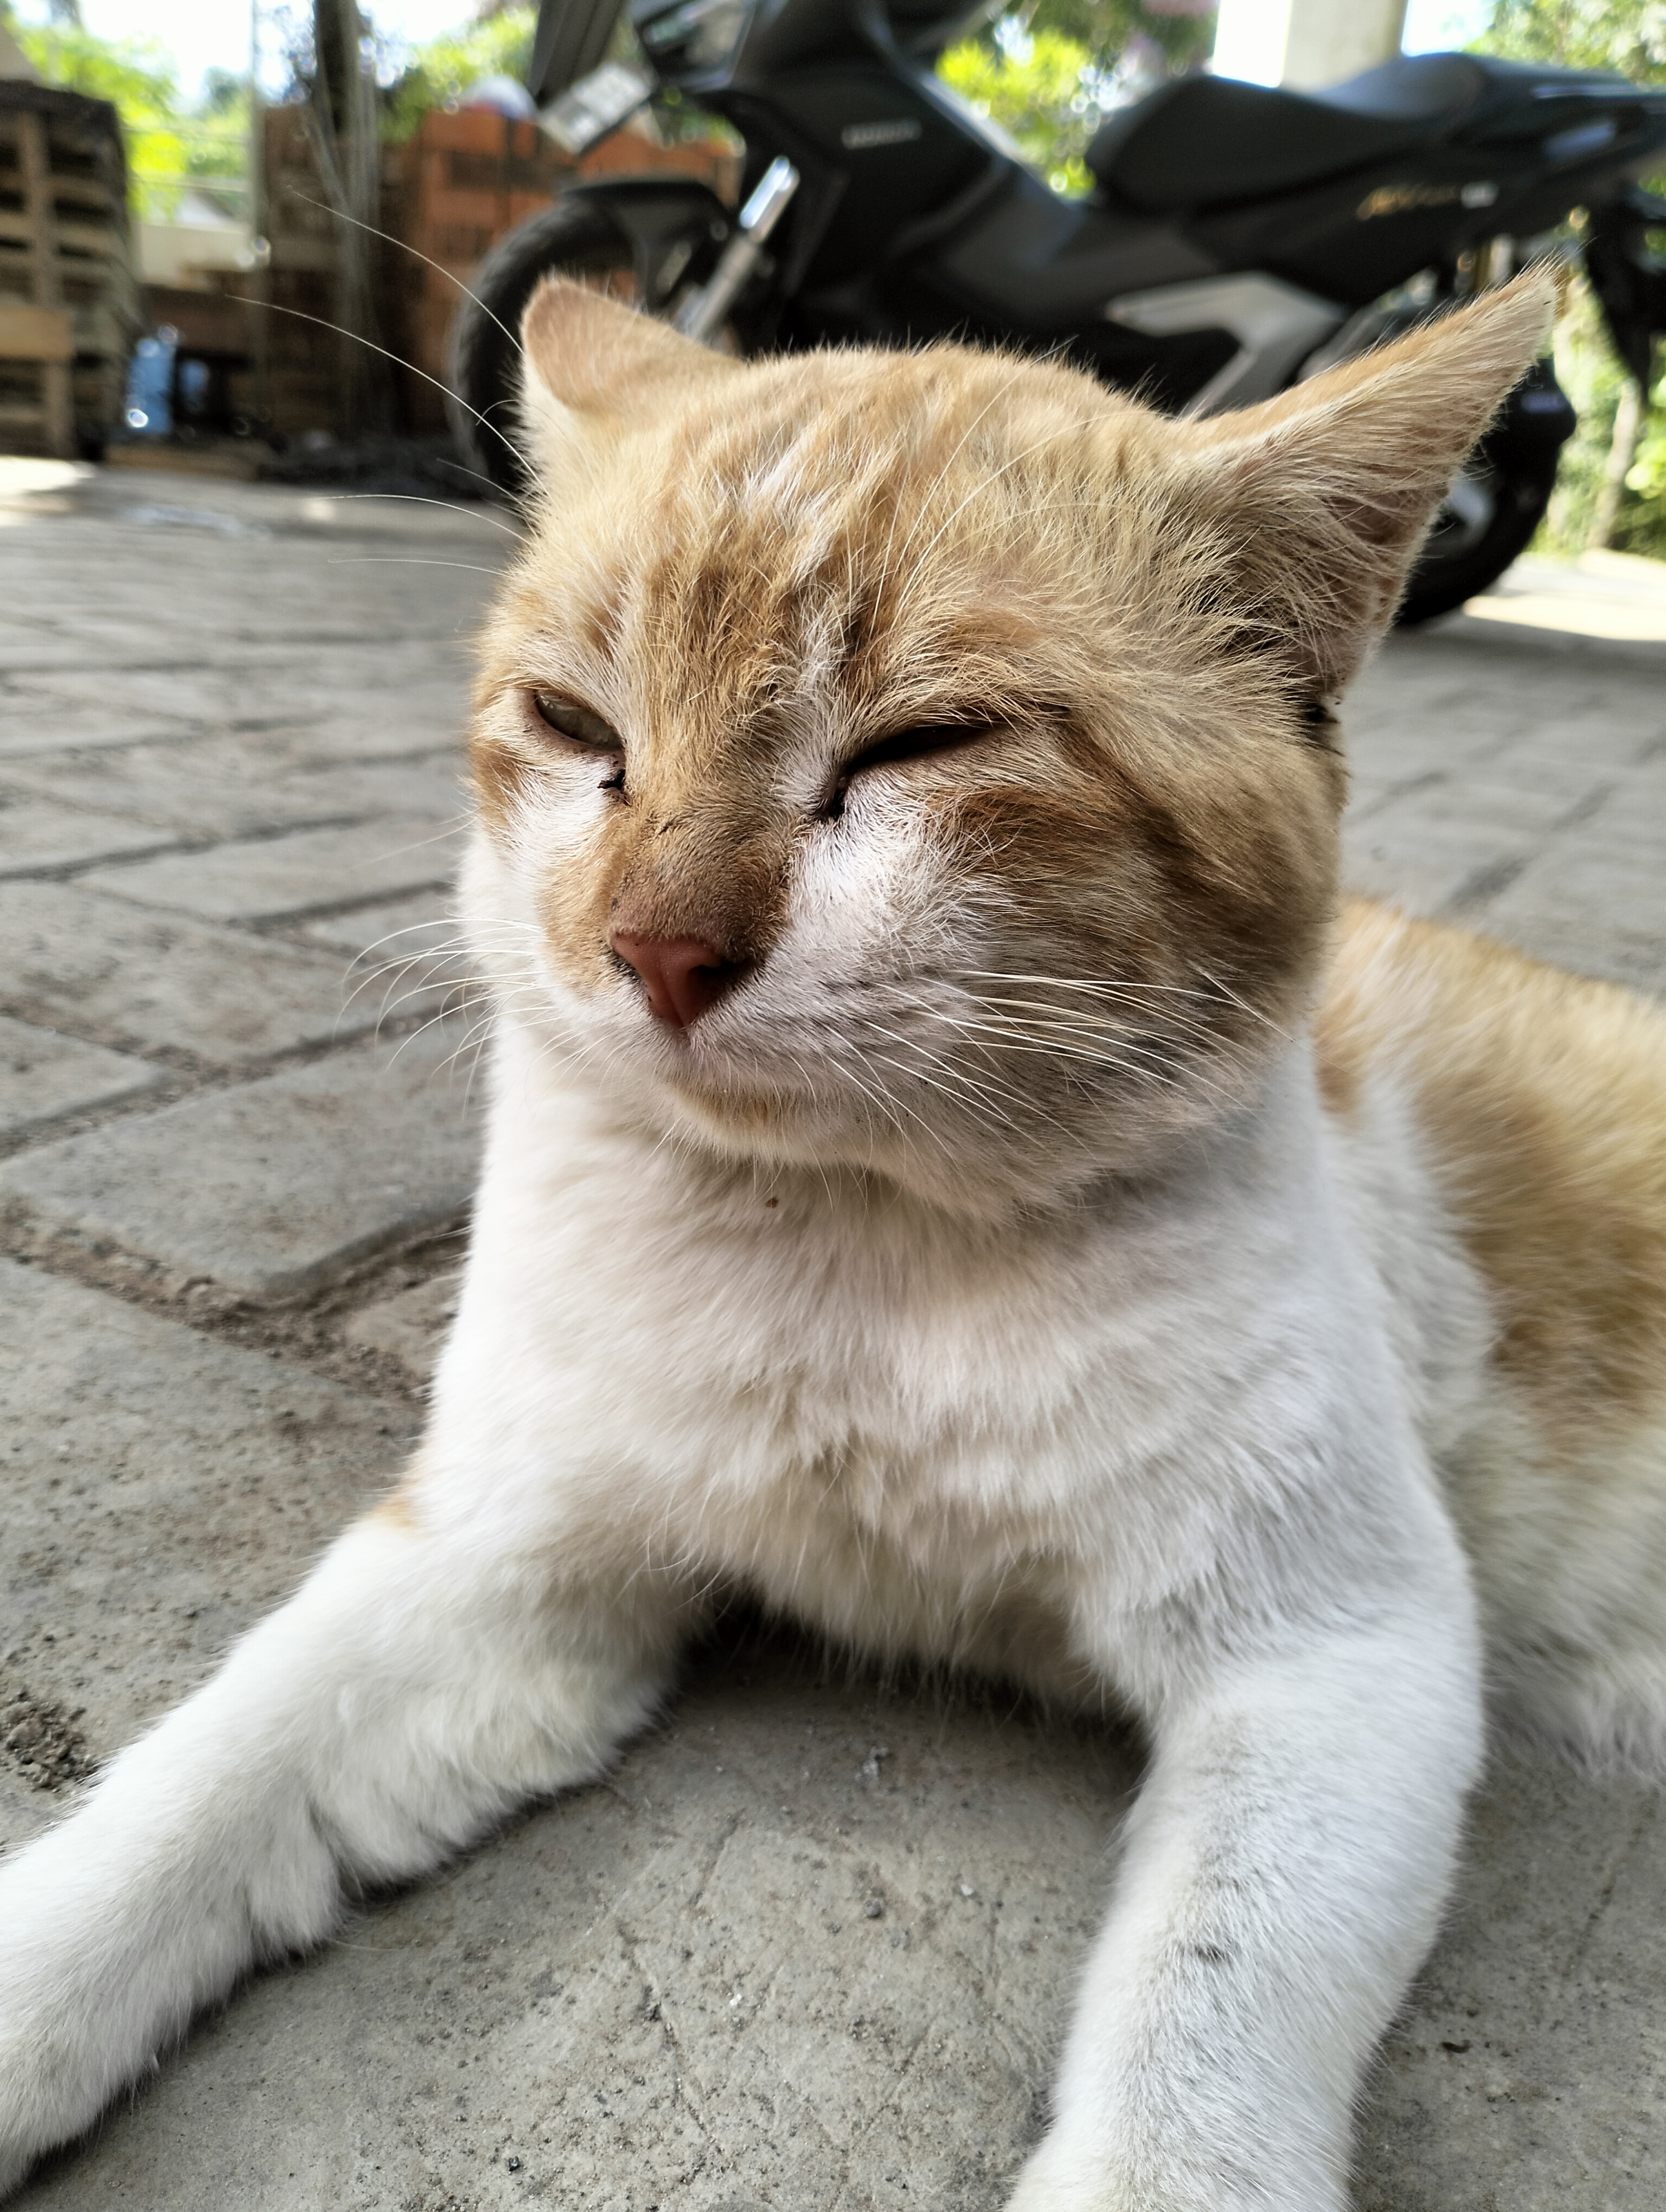oyen: (418, 275, 1601, 1283)
